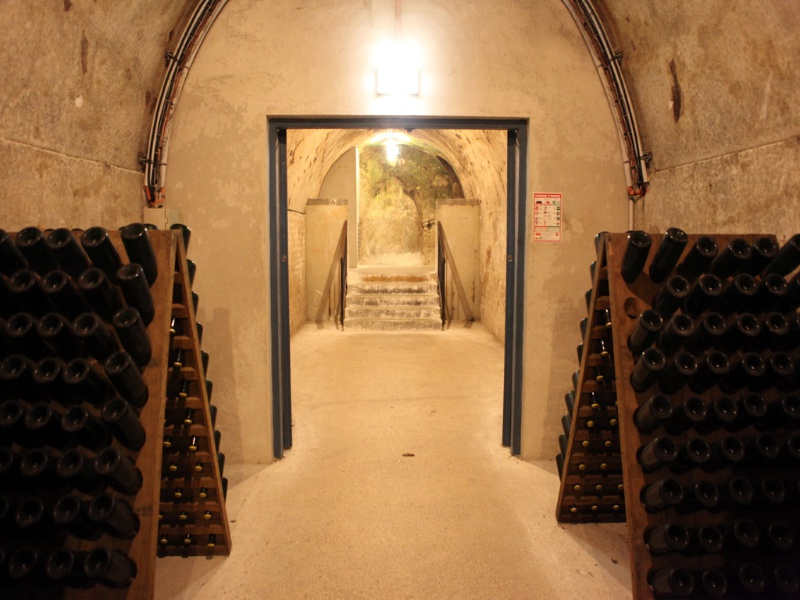wine: (547, 203, 800, 595), (1, 219, 231, 596)
